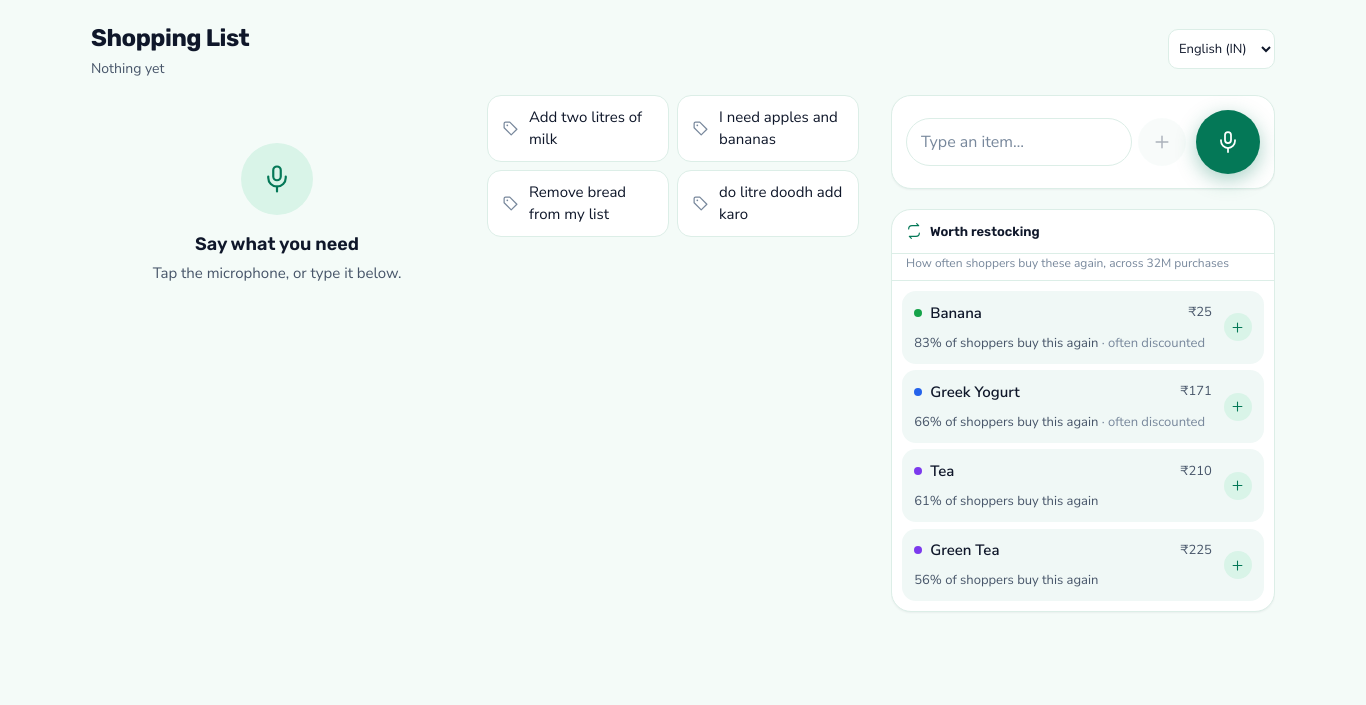
Test case: voice search › flags when only offline results are available
The width and height of the screenshot is (1366, 705).
Step 1. Click the button named "Start listening" → (1228, 142), box [1196,110,1260,174]
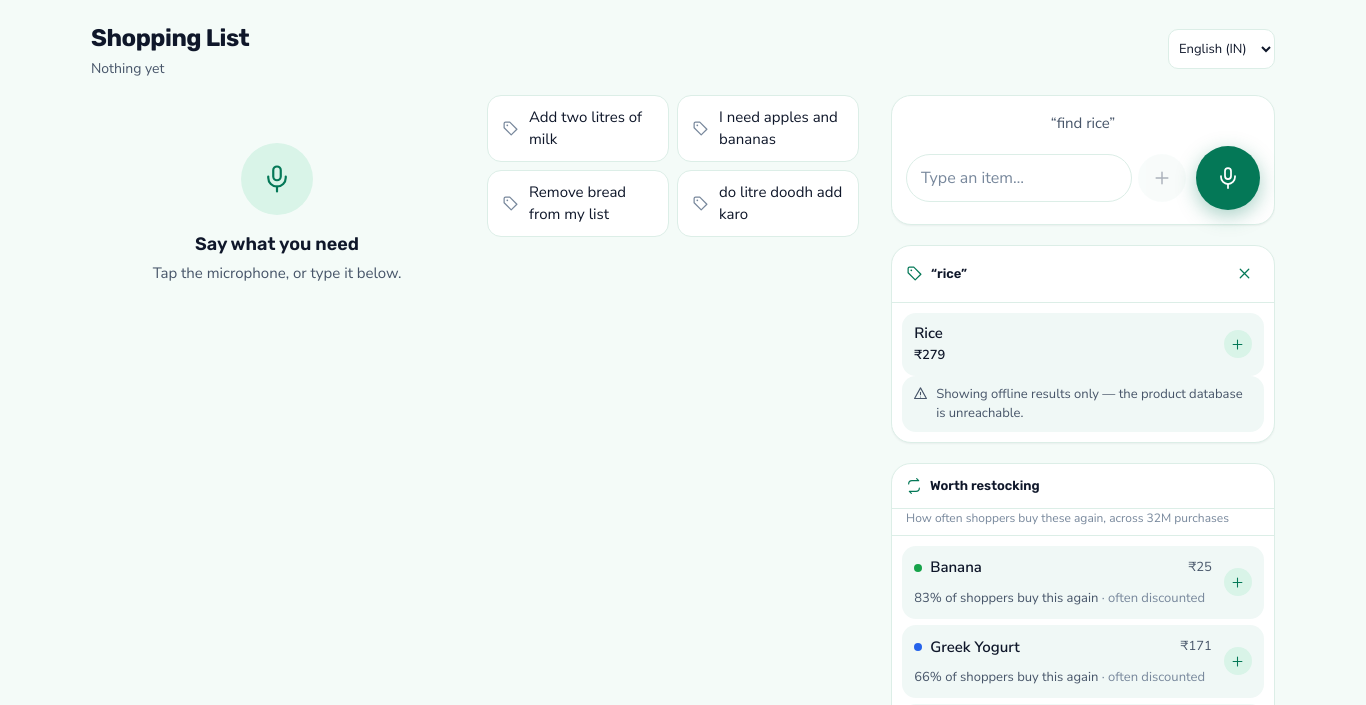
Expected: the text "offline results only" is shown, [936,385,1243,422]
